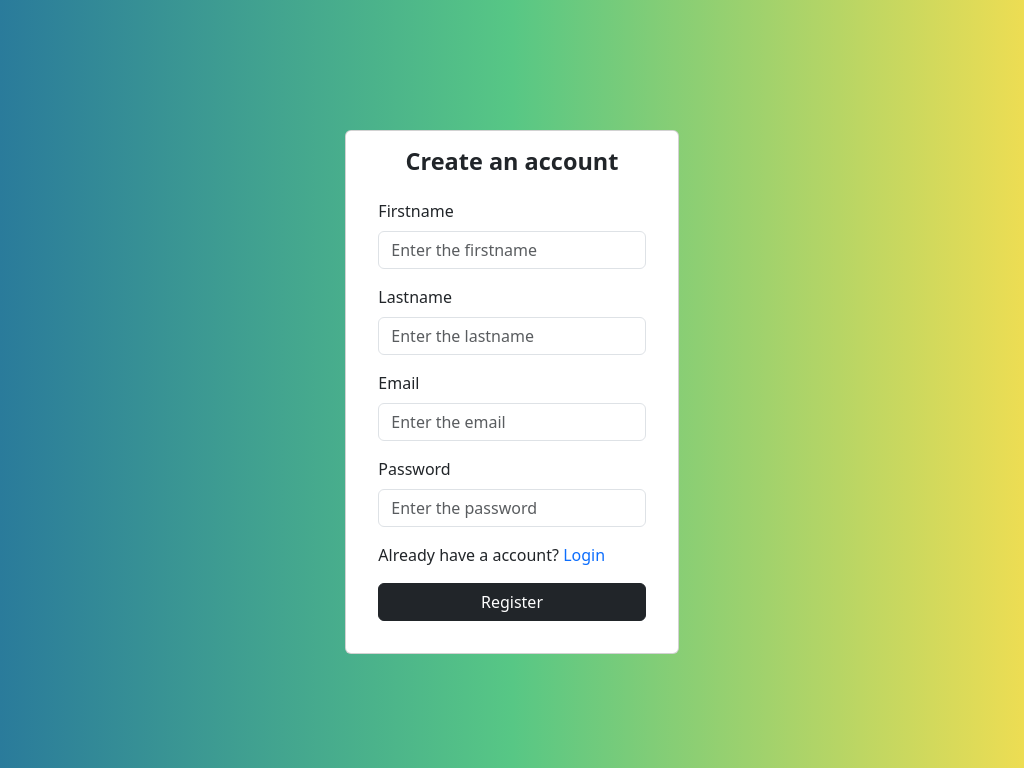
Test: Register Component › shows validation errors when fields are empty and form is submitted
Click the button "Register" at {"x": 512, "y": 602}, box [378,583,646,621]
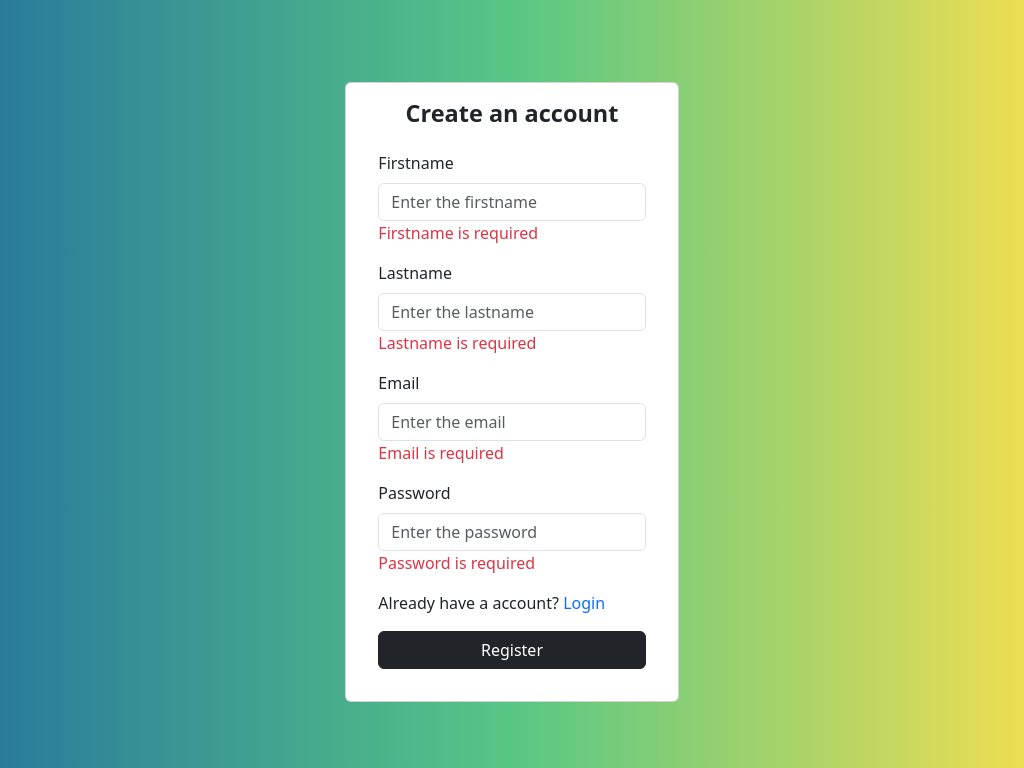
Now the text "Firstname is required" is shown, box [378,222,538,244]
Now the text "Lastname is required" is shown, box [378,332,536,354]
Now the text "Email is required" is shown, box [378,442,504,464]
